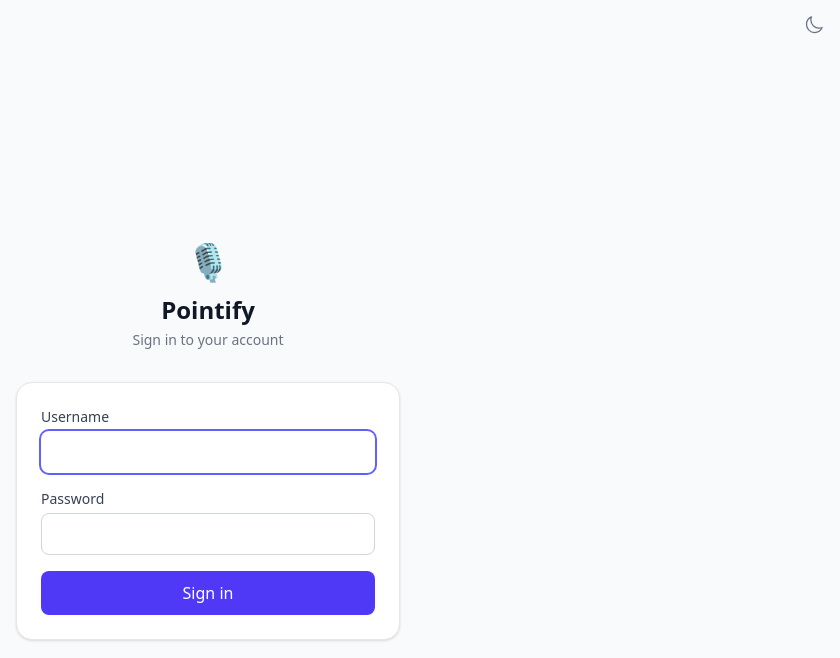
Scenario: Login › disables button while loading
Type "admin" into the field labelled "Username". click: (208, 452)
box: [41, 431, 375, 473]
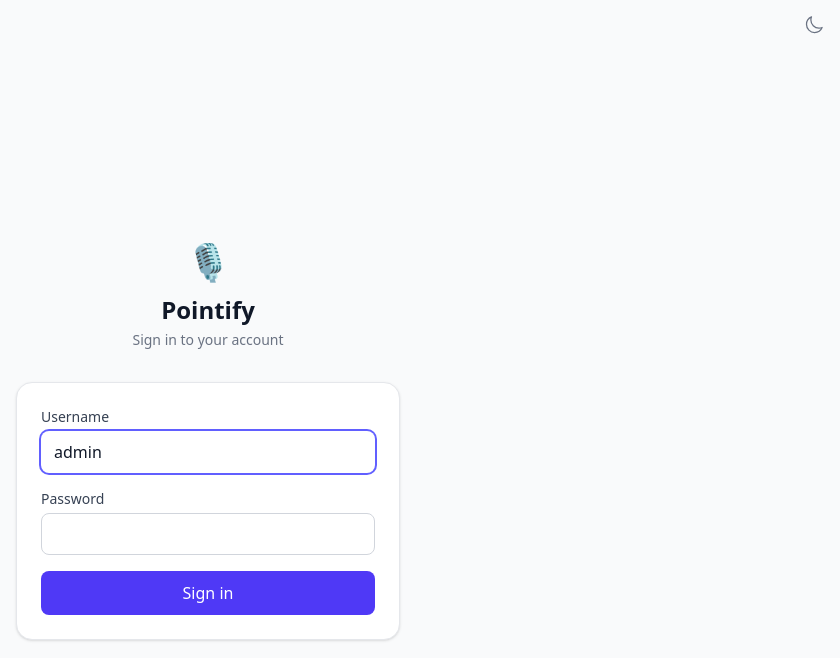
Type "Admin123!" into the password field labelled "Password". click: (208, 534)
box: [41, 513, 375, 555]
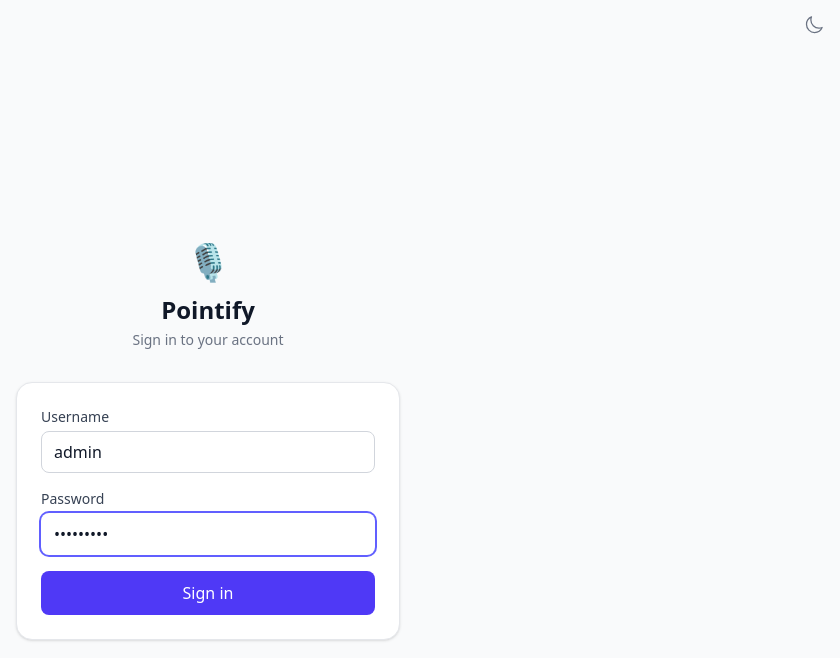
Click the button "Sign in". click: (208, 593)
box: [41, 571, 375, 615]
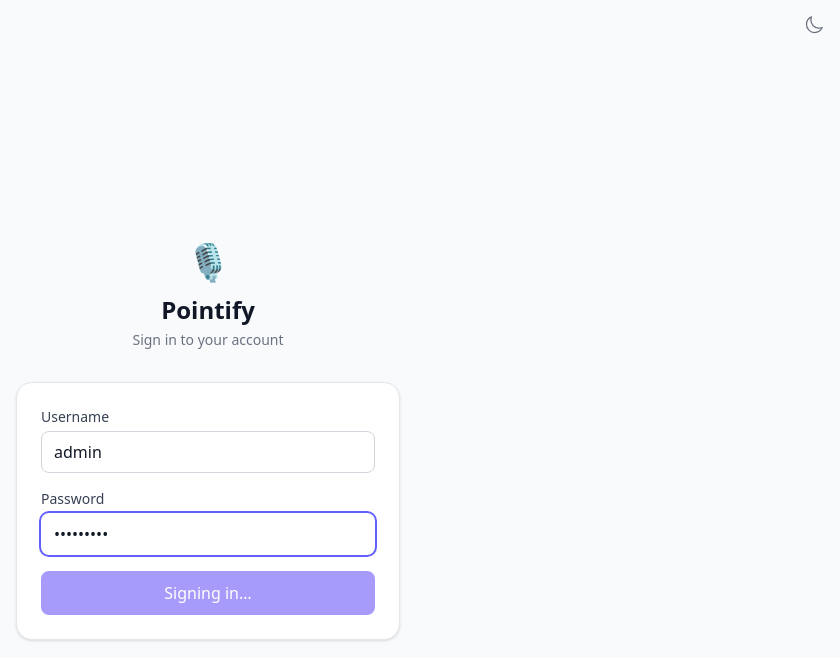
Now the button "Signing in…" is disabled, box [41, 571, 375, 615]
